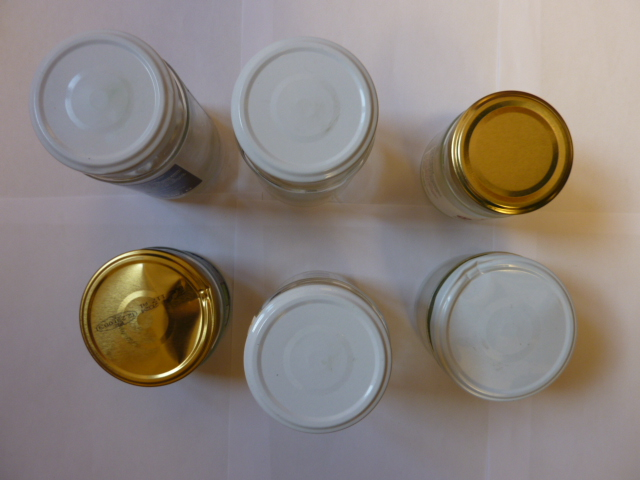damaged: (432, 252, 576, 402), (80, 248, 218, 386)
intact: (244, 284, 390, 434), (232, 34, 379, 180), (30, 30, 172, 174), (451, 89, 575, 215)
